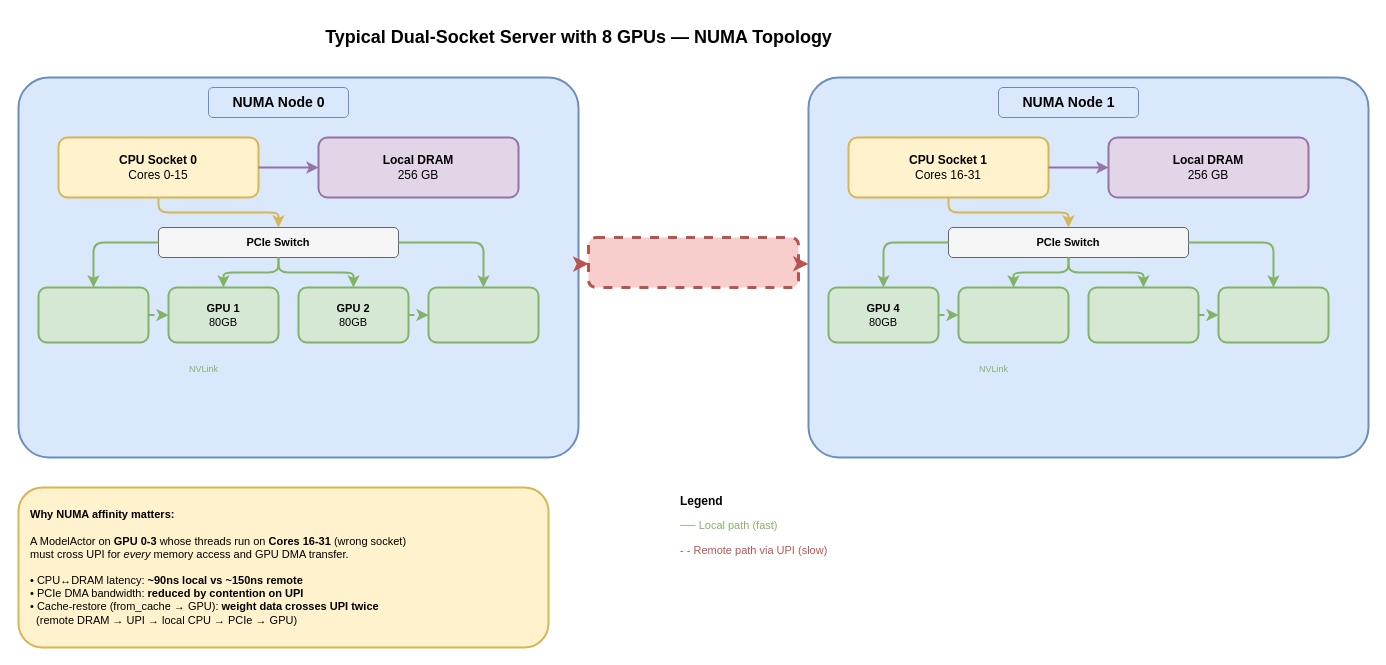
The diagram is 1386 pixels wide and 665 high, and some of its shapes have lost their labels. Each missing label, with the box of its shape:
GPU 0 80GB: (37, 286, 149, 343)
GPU 3 80GB: (427, 286, 539, 343)
GPU 5 80GB: (957, 286, 1069, 343)
GPU 6 80GB: (1087, 286, 1199, 343)
GPU 7 80GB: (1217, 286, 1329, 343)
UPI / QPI Interconnect ~2x latency, shared bandwidth: (586, 236, 800, 288)
